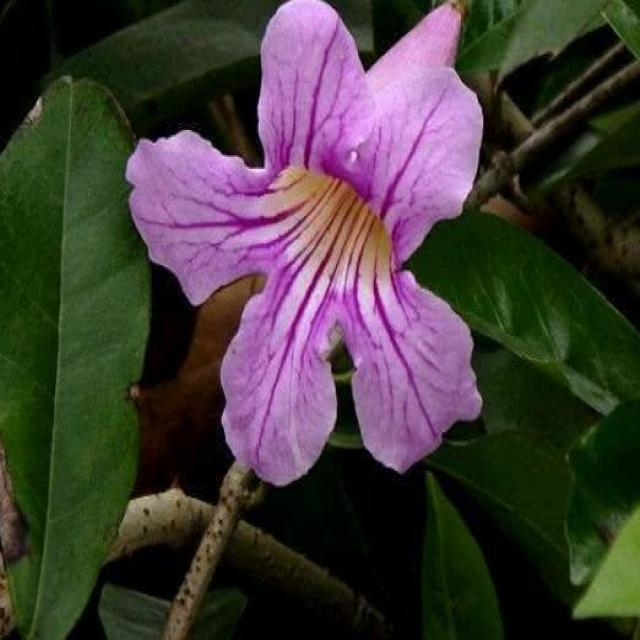organic waste: (120, 2, 510, 489)
